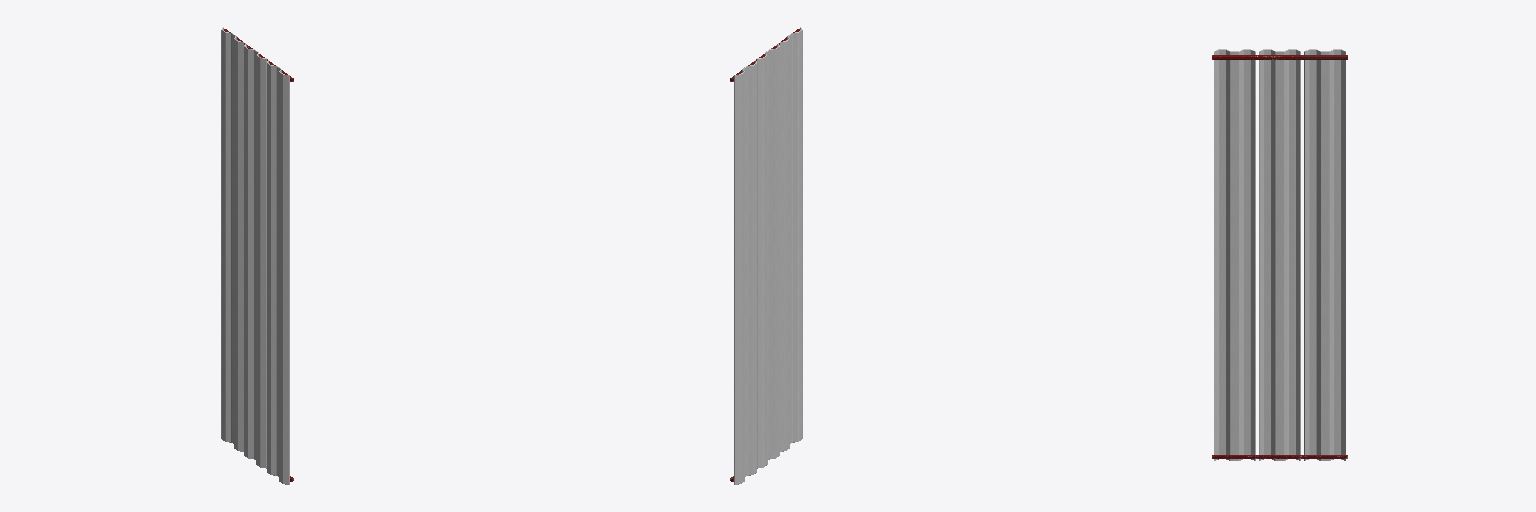
The picture shows the model from 3 angles: view 1: azimuth 30°, elevation 25°; view 2: azimuth 150°, elevation 25°; view 3: azimuth 270°, elevation 25°; orthographic projection.
Parts seen in each view (by area): view 1: s_rail_safity_rail_0; view 2: s_rail_safity_rail_0; view 3: s_rail_safity_rail_0.
Part boxes in pixels (left/top/right/bottom): s_rail_safity_rail_0: left=221, top=27, right=293, bottom=484; s_rail_safity_rail_0: left=730, top=27, right=802, bottom=484; s_rail_safity_rail_0: left=1212, top=49, right=1347, bottom=460.
Size of the model in its own units: 0.0972 by 5 by 1.5.
Materials: 1 (1 with a texture image).